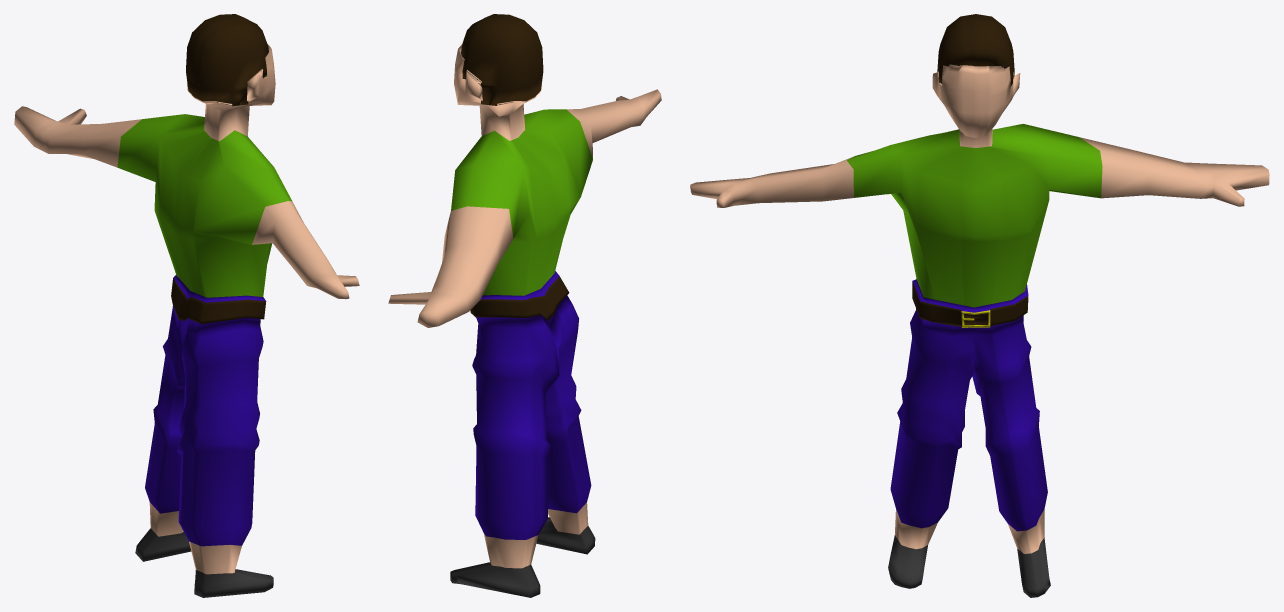
Rendered from low poly character.fbx.
The picture shows the model from 3 angles, left to right: view 1: azimuth 30°, elevation 25°; view 2: azimuth 150°, elevation 25°; view 3: azimuth 270°, elevation 25°; orthographic projection. The views are drawn at different scales.
Visible parts, largest first — view 1: Cube; view 2: Cube; view 3: Cube.
Boxes of the visible parts, x1,y1,x2,y2 form: Cube: [14, 14, 359, 597]; Cube: [388, 14, 661, 597]; Cube: [690, 14, 1269, 597].
Size of the model in its own units: 237 by 1017 by 942.
